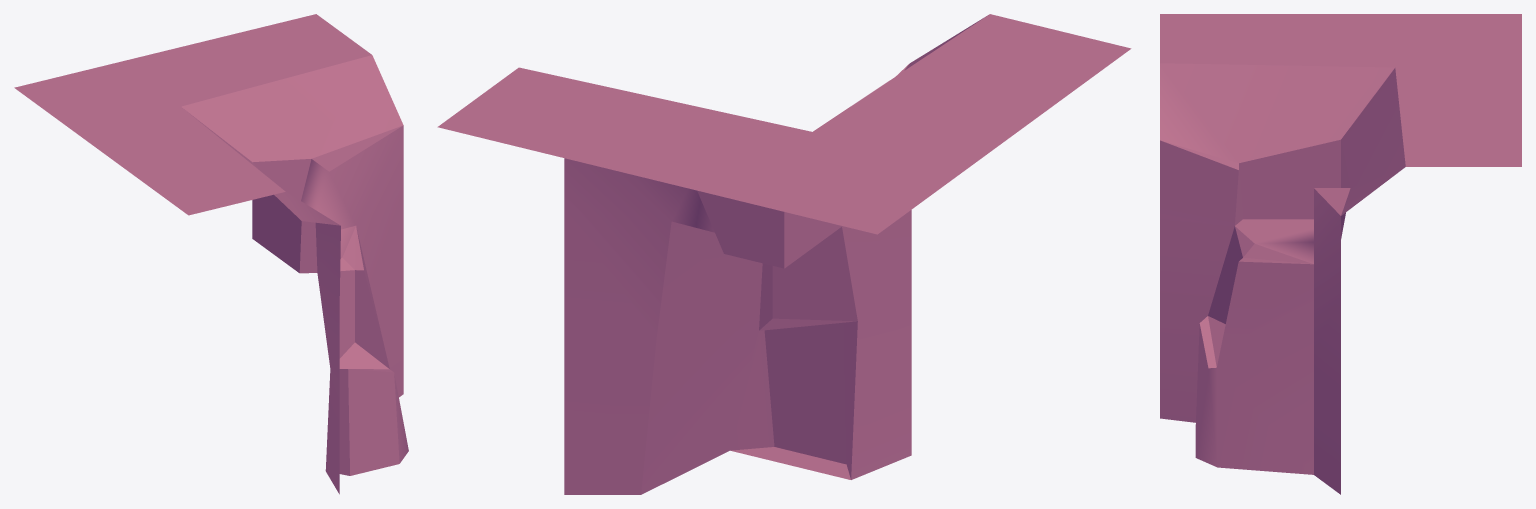
File: Module_Corner_IN_Mesh_v01.fbx
The picture shows the model from 3 angles, left to right: view 1: azimuth 30°, elevation 25°; view 2: azimuth 150°, elevation 25°; view 3: azimuth 270°, elevation 25°; orthographic projection. The views are drawn at different scales.
Visible parts, largest first — view 1: Module_Corner_IN_Mesh_v01; view 2: Module_Corner_IN_Mesh_v01; view 3: Module_Corner_IN_Mesh_v01.
Boxes of the visible parts, x1,y1,x2,y2 form: Module_Corner_IN_Mesh_v01: [14, 14, 408, 494]; Module_Corner_IN_Mesh_v01: [437, 14, 1131, 494]; Module_Corner_IN_Mesh_v01: [1160, 14, 1521, 494].
Bounding box in the file's own units: 400 × 400 × 400.
